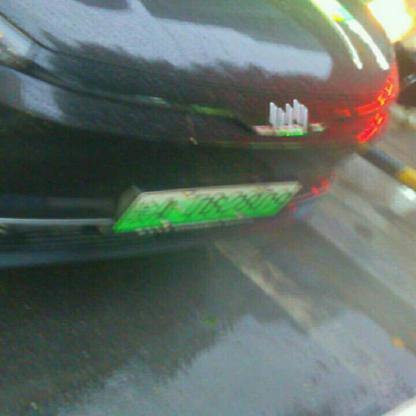lp: (116, 182, 298, 230)
